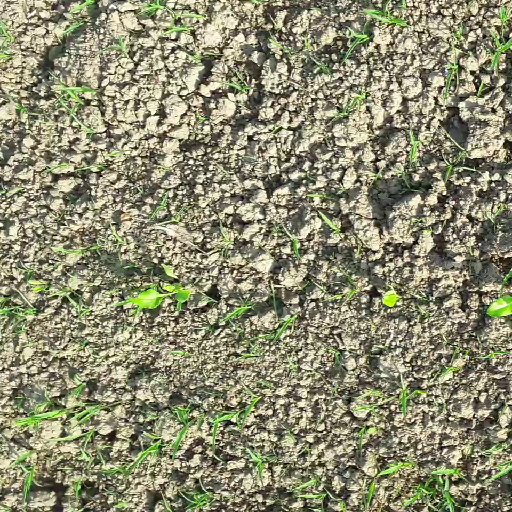sugarbeet: (130, 260, 192, 310), (482, 291, 512, 316), (380, 285, 405, 308)
weed: (1, 2, 512, 506)
